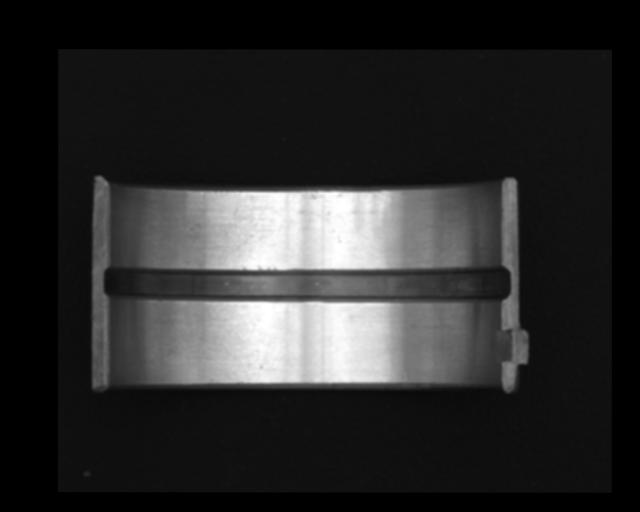gap: (102, 262, 513, 303)
